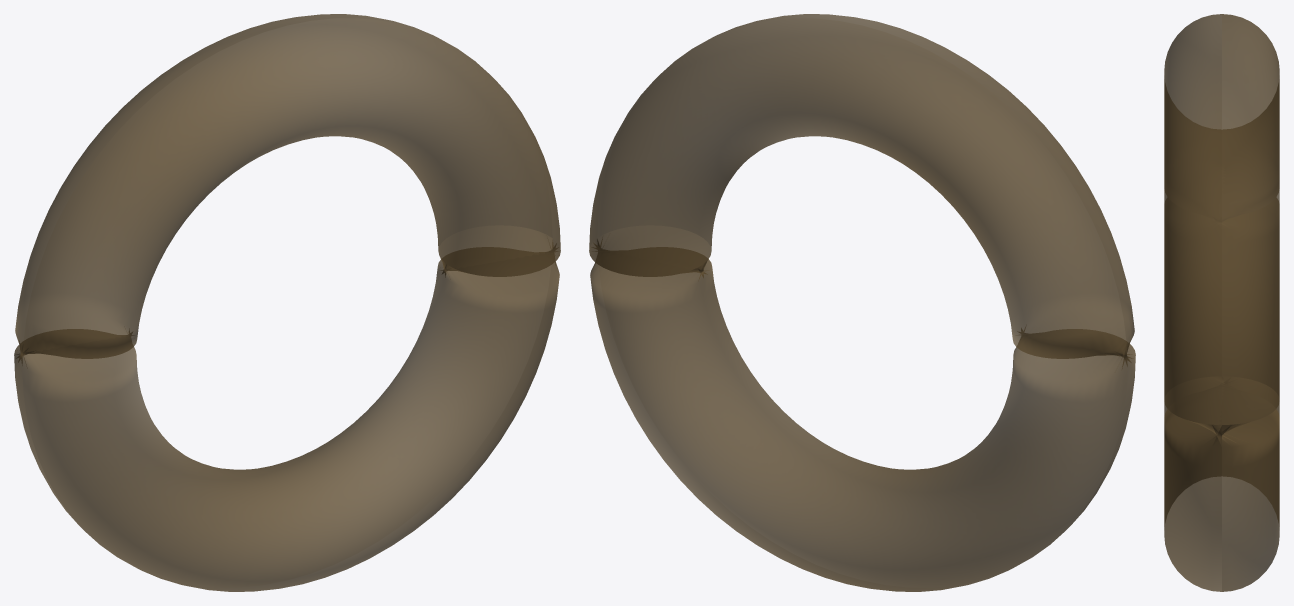
File: quantum_gate_cnot.glb
3 renders of one model, left to right at view 1: azimuth 30°, elevation 25°; view 2: azimuth 150°, elevation 25°; view 3: azimuth 270°, elevation 25°, orthographic. The views are drawn at different scales.
Visible parts, largest first — view 1: MathShape_0; view 2: MathShape_0; view 3: MathShape_0.
Boxes of the visible parts, left/top/right/bottom form: MathShape_0: left=14, top=14, right=560, bottom=591; MathShape_0: left=589, top=14, right=1135, bottom=591; MathShape_0: left=1164, top=14, right=1279, bottom=591.
Size of the model in its own units: 4 by 4 by 0.8001.
1 material, 1 textured.
